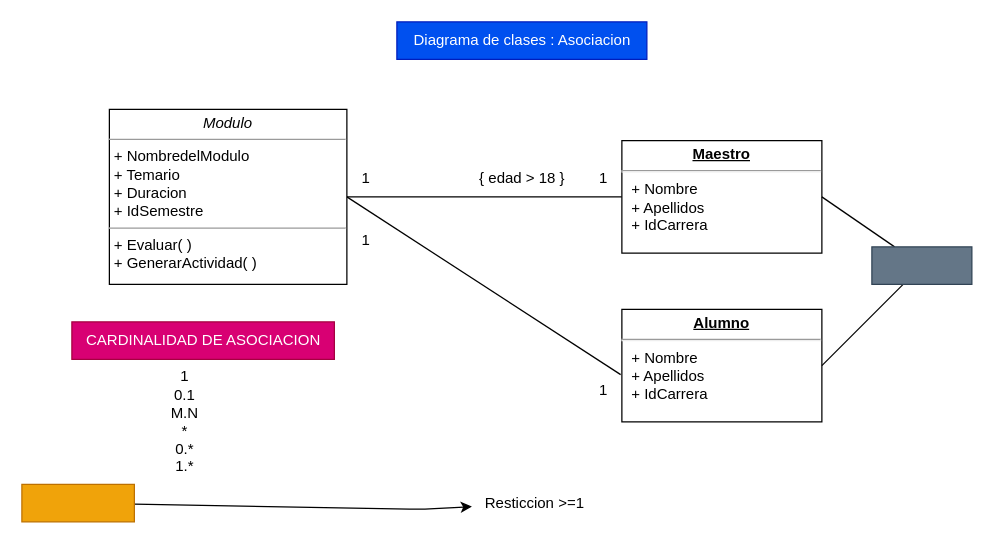
This 994x544 diagram has some shape labels left out. Here are the shapes that lost their labels. From the top down, the box of each, then its label:
(871, 246, 972, 284): Excluyente
(21, 483, 134, 522): Multiplicidad
